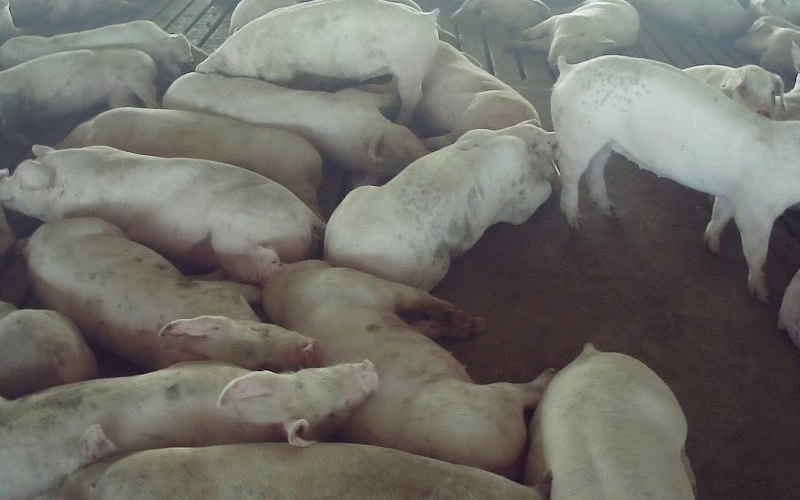pig: (263, 260, 552, 476), (551, 56, 799, 301), (0, 361, 376, 499), (25, 218, 314, 370), (324, 122, 558, 289), (163, 72, 427, 182), (198, 0, 437, 121), (50, 443, 548, 499), (58, 107, 321, 211), (525, 344, 694, 499), (0, 48, 156, 135), (0, 20, 206, 79), (509, 0, 638, 73), (683, 65, 783, 118)
